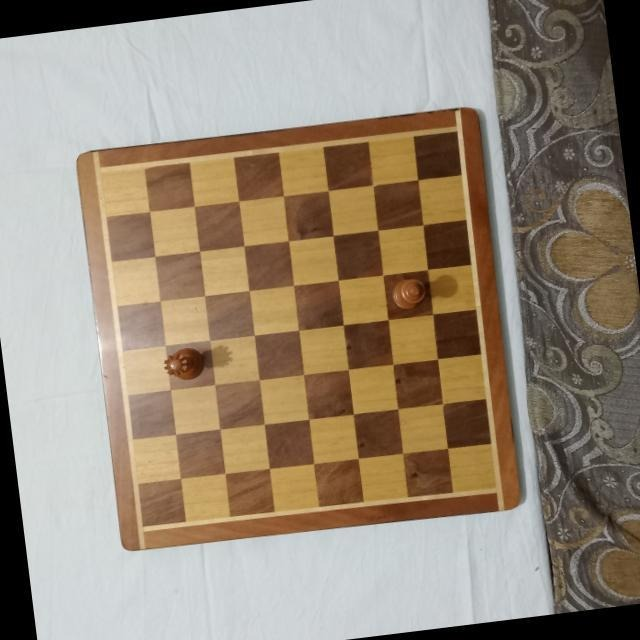white-king: (388, 273, 428, 311)
white-queen: (157, 342, 207, 381)
